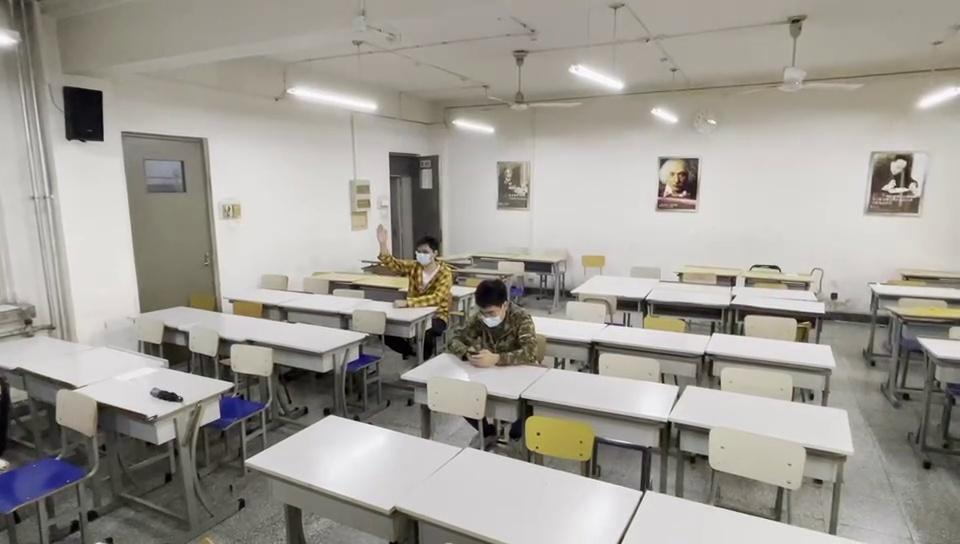phone: (456, 276, 538, 367)
study: (377, 222, 451, 307)
